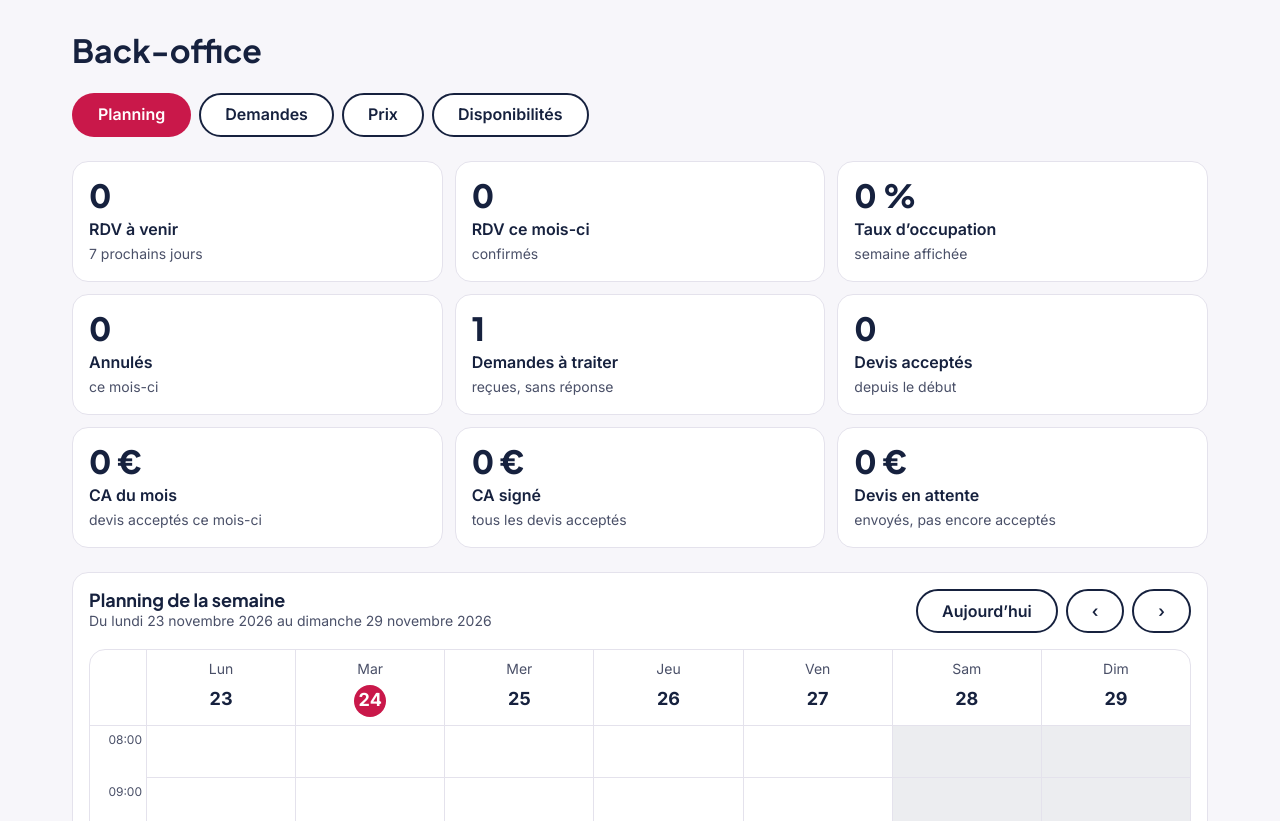
Test: Back-office : devis › modifier une ligne annule la confirmation
Click the button "Demandes": (267, 115) top-left (199, 93), bottom-right (334, 137)
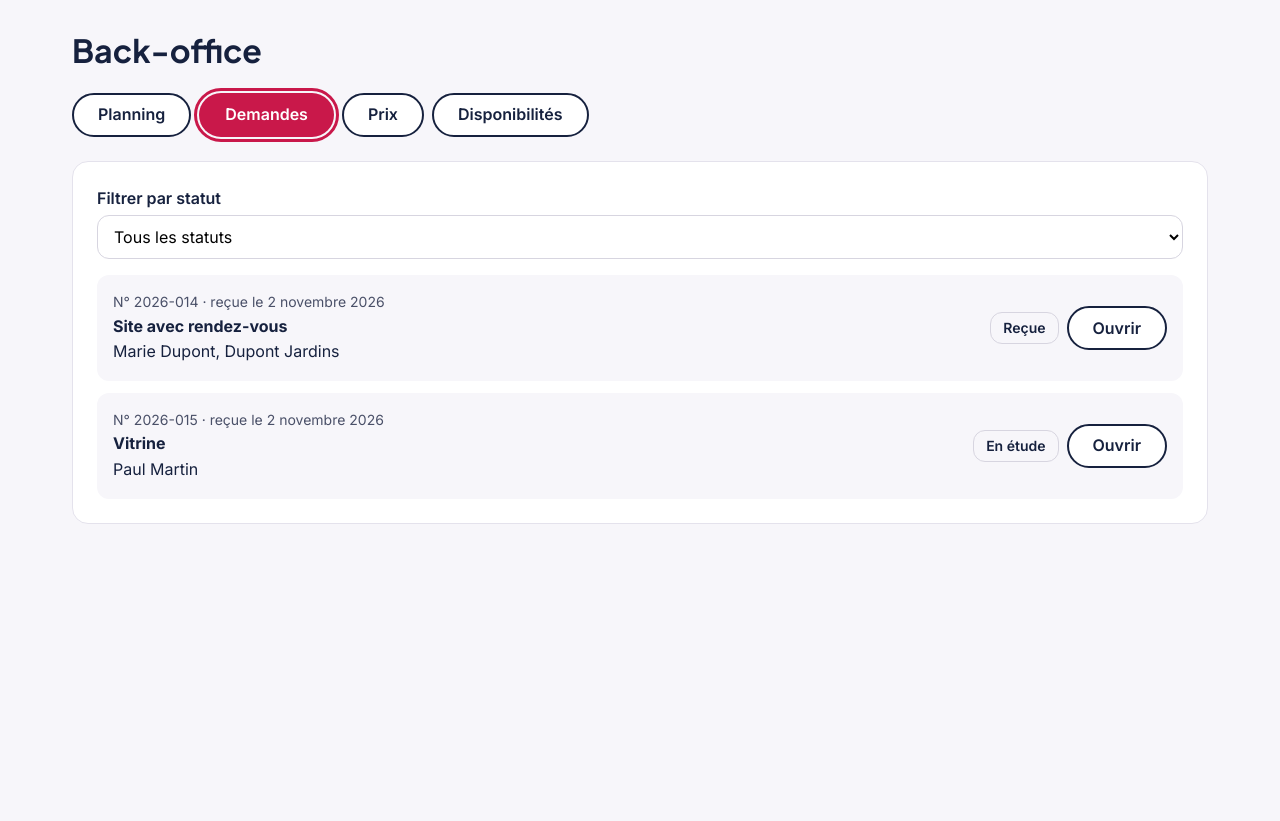
Click the button with aria-label "Ouvrir la demande 2026-014": (1117, 328) top-left (1066, 306), bottom-right (1167, 350)
(page scrolled)
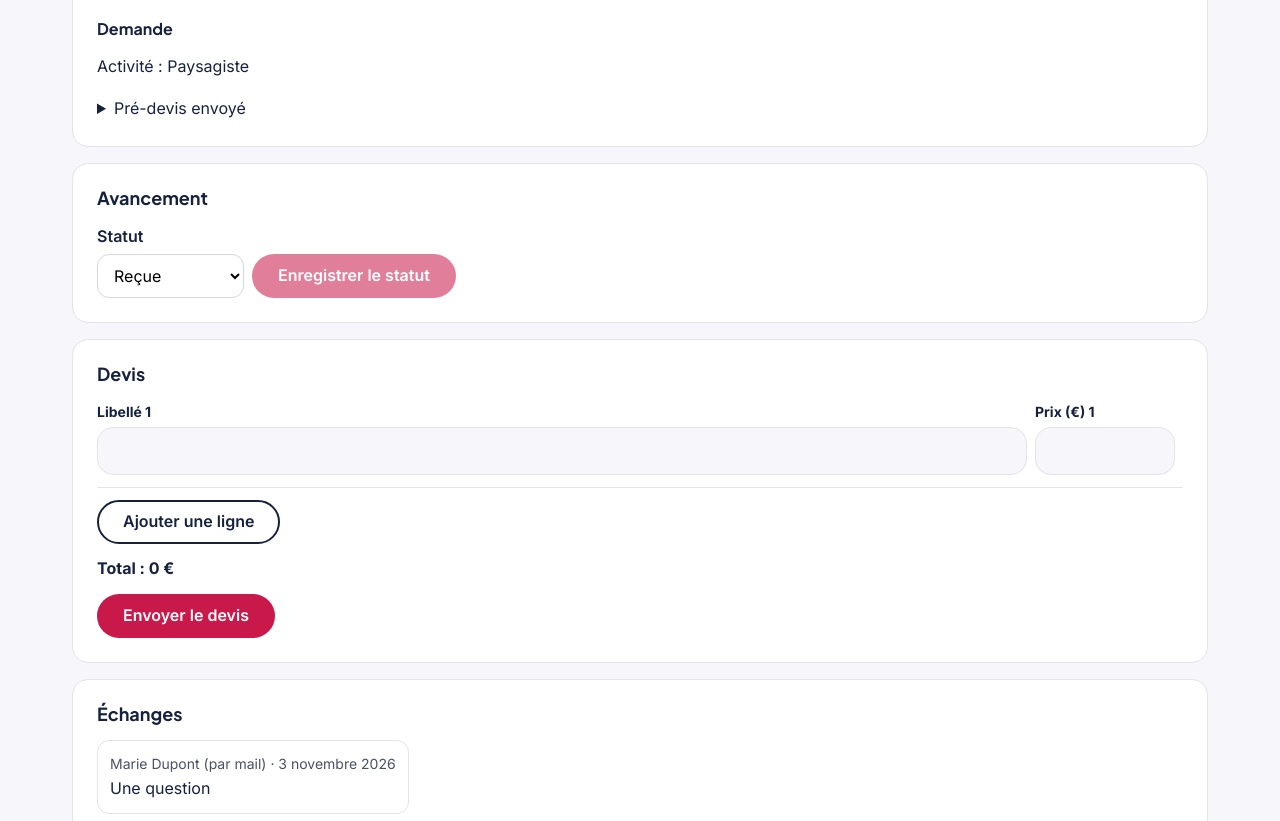
In the field labelled "Libellé 1": (562, 451) top-left (97, 427), bottom-right (1027, 475), type "Site fonctionnel"
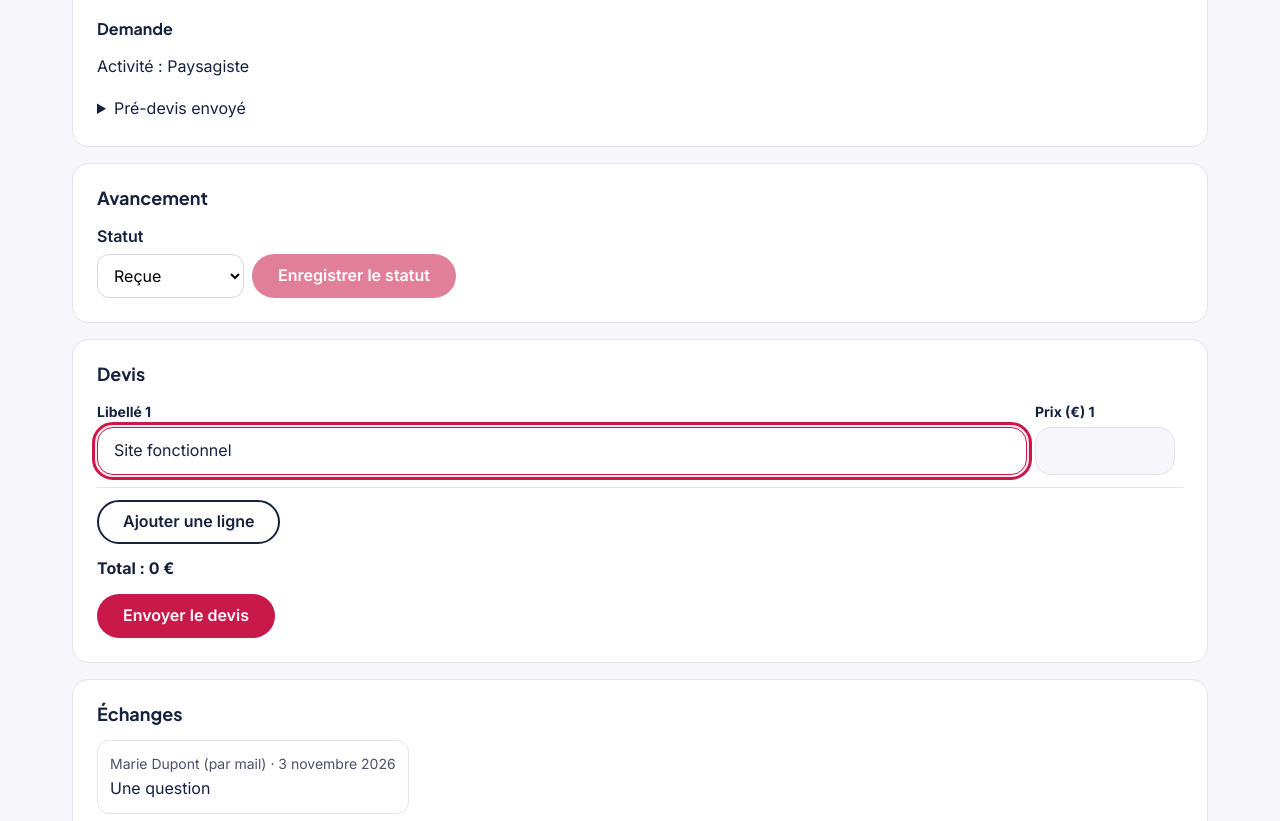
In the field labelled "Prix (€) 1": (1105, 451) top-left (1035, 427), bottom-right (1175, 475), type "989"
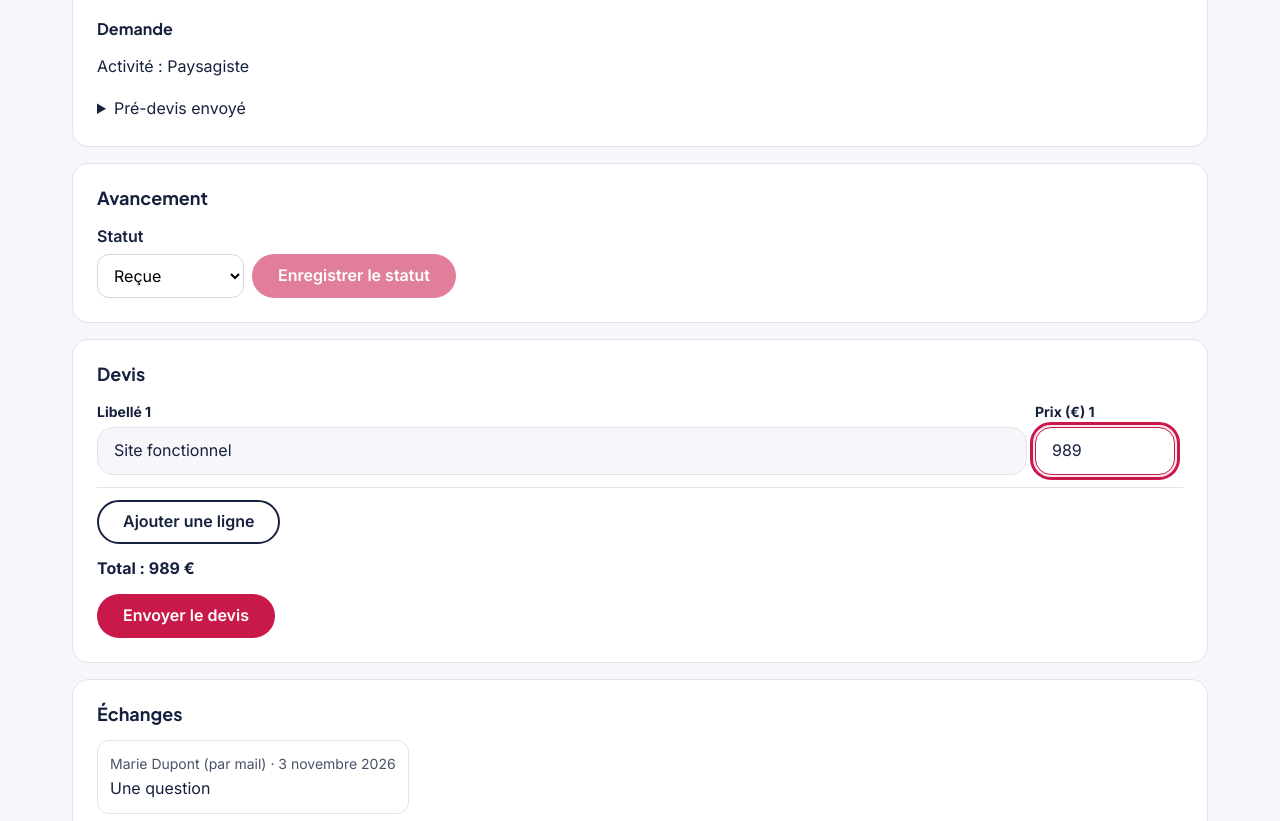
Click the button "Envoyer le devis": (186, 616) top-left (97, 594), bottom-right (275, 638)
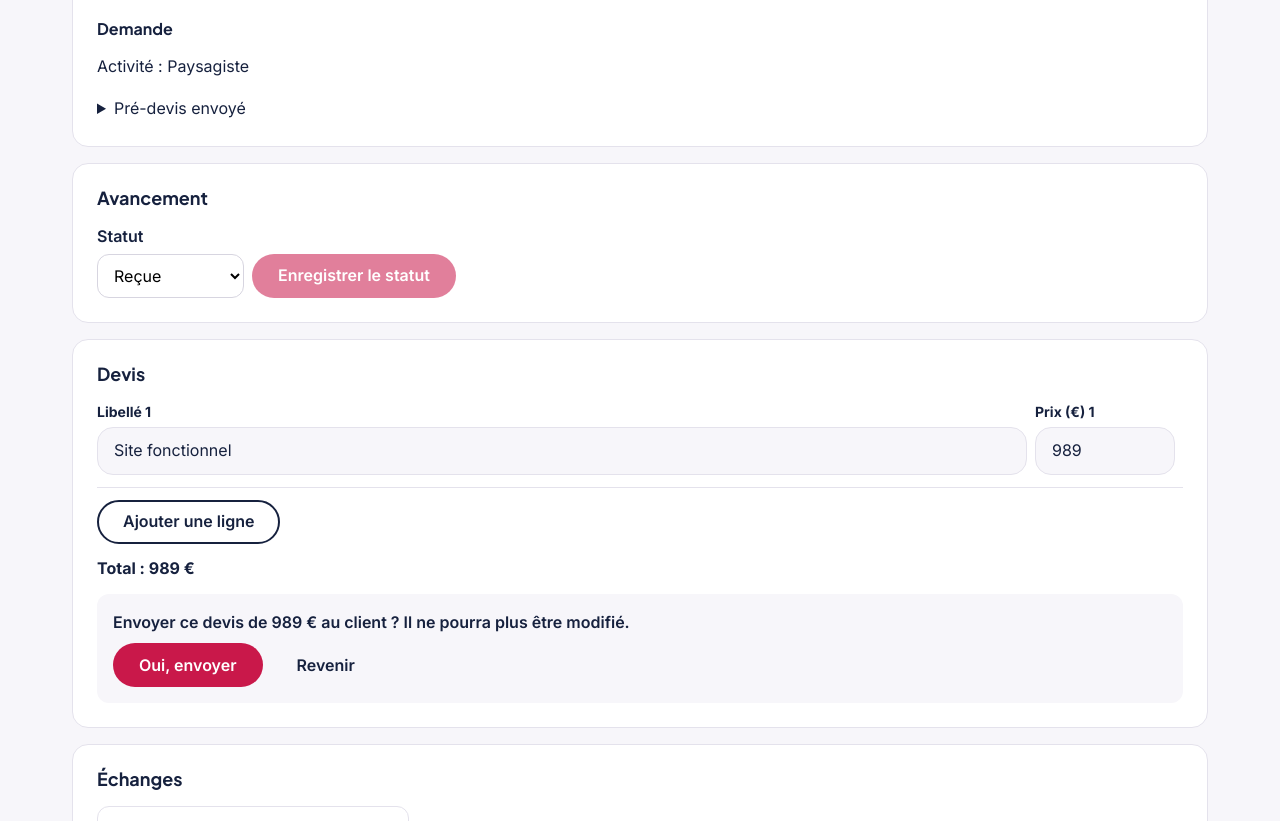
In the field labelled "Prix (€) 1": (1105, 451) top-left (1035, 427), bottom-right (1175, 475), type "0"
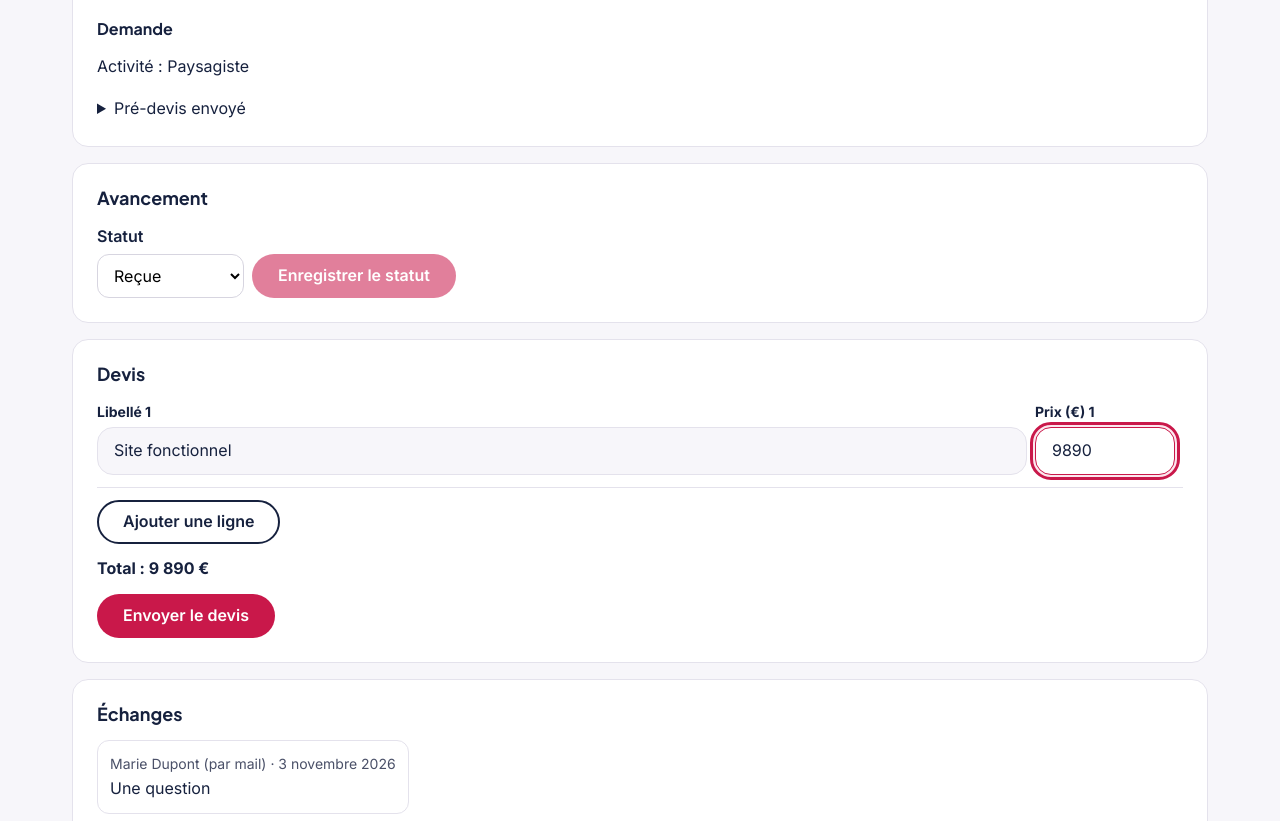
Now the button "Oui, envoyer" is gone
